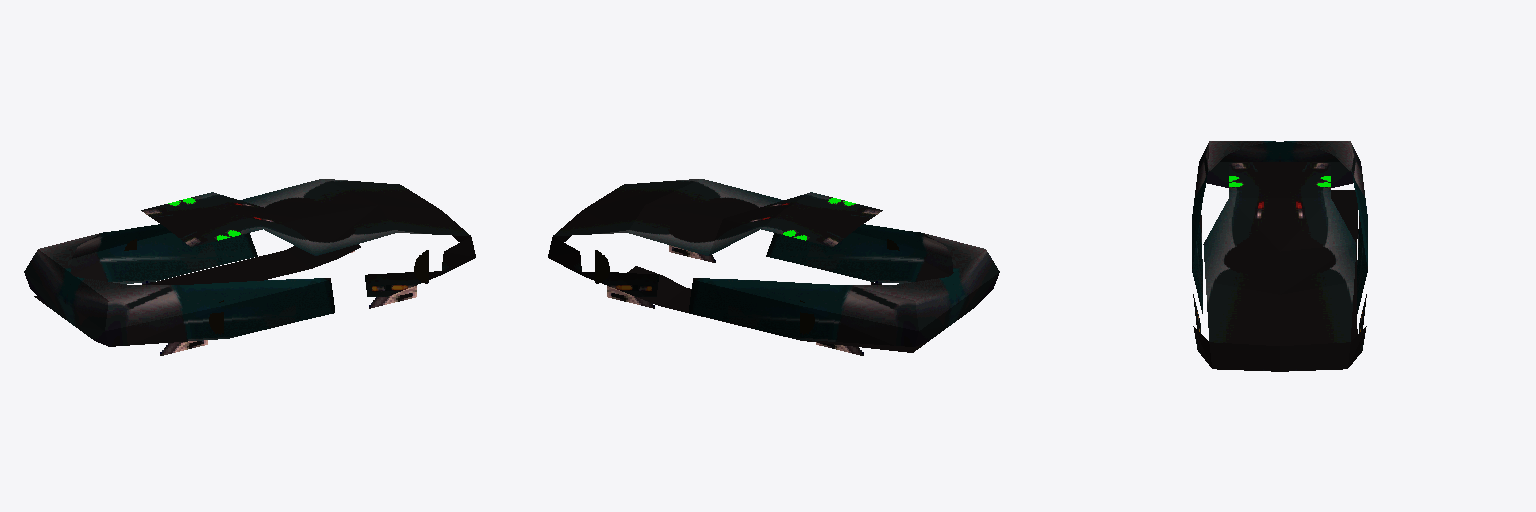
3 renders of one model, left to right at view 1: azimuth 30°, elevation 25°; view 2: azimuth 150°, elevation 25°; view 3: azimuth 270°, elevation 25°, orthographic.
Bounding box in the file's own units: 601 × 151 × 240.
Materials: 1 (1 with a texture image).